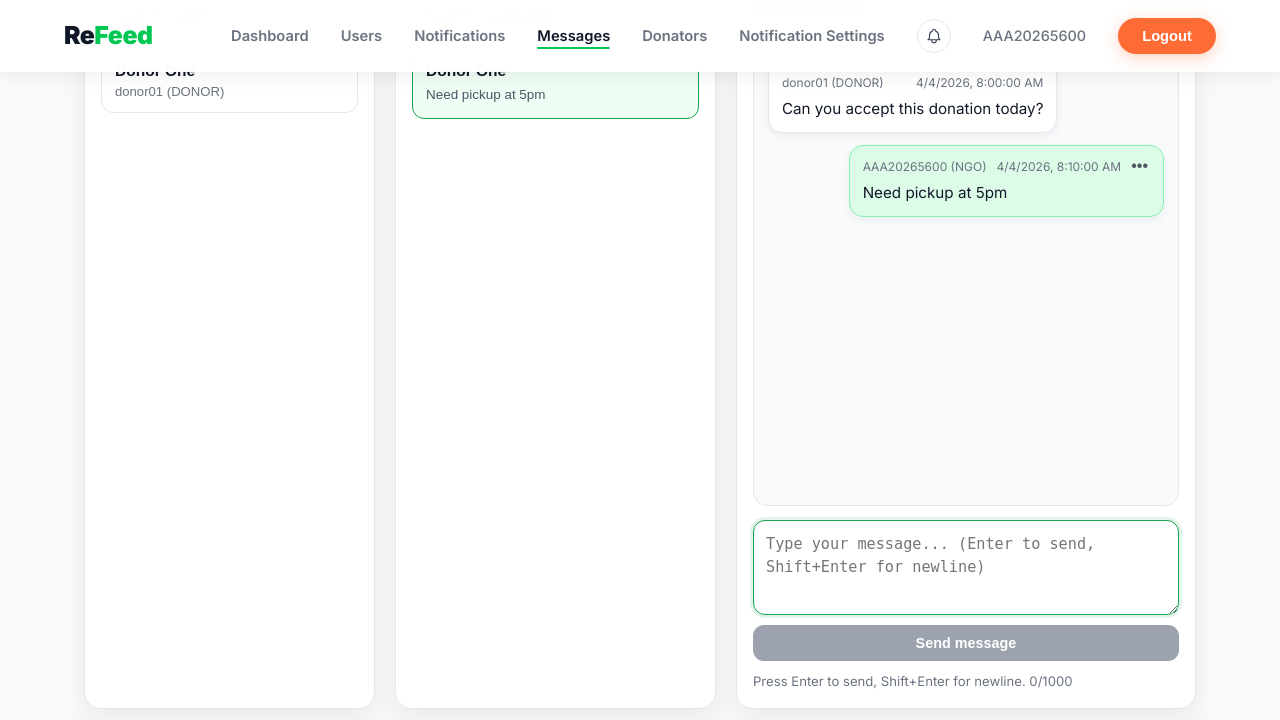
it: NGO Messages - E2E Tests › should load messages and send a new message
(page scrolled)
Expected: the text "Can you accept this donation today?" is shown, x1=782 y1=98 x2=1043 y2=121
Step 1. Type "Pickup confirmed for 5pm." into the text box with class "rf-composer-input" → (966, 567), box x1=753 y1=520 x2=1179 y2=614
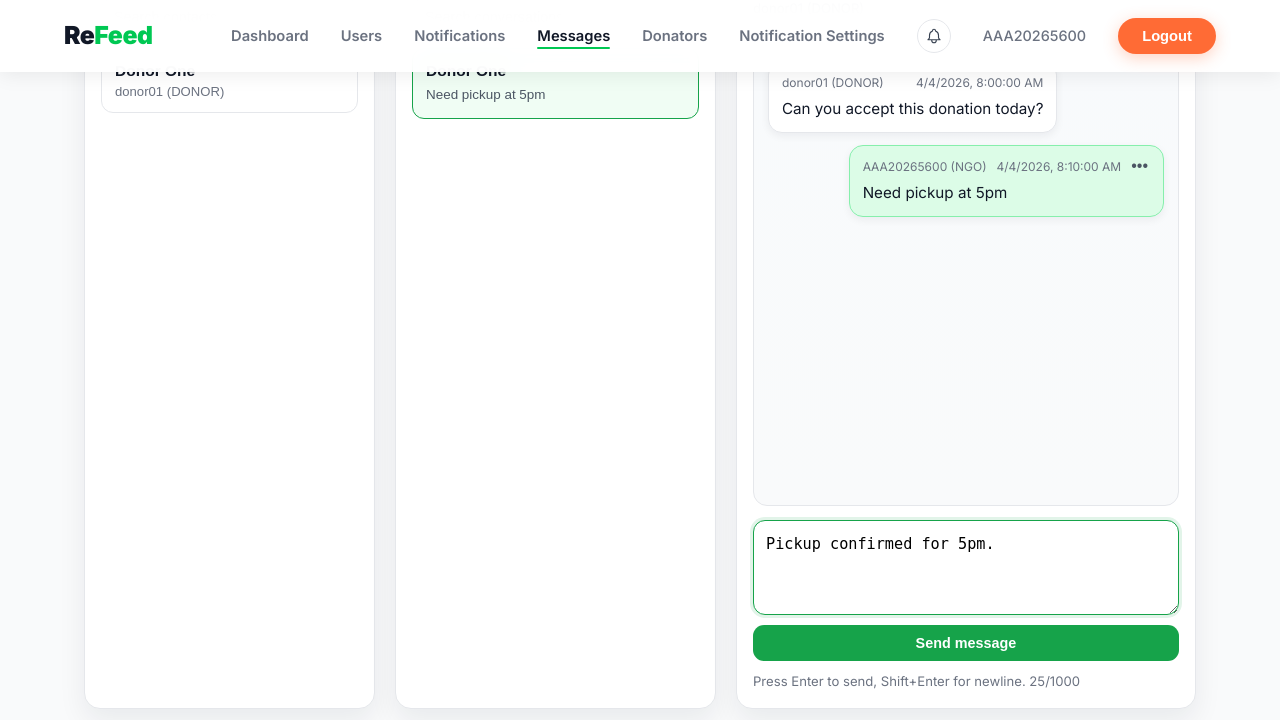
Step 2. Click the button "Send message" → click(966, 643), box x1=753 y1=625 x2=1179 y2=661
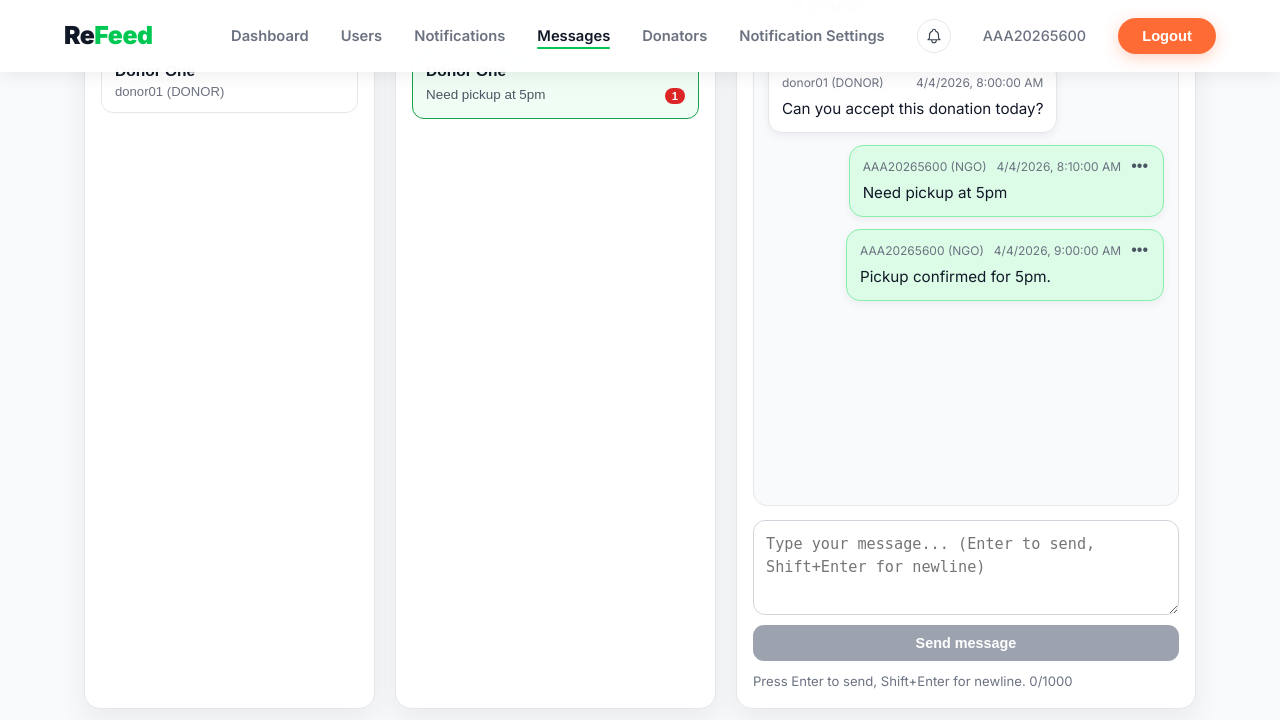
Now the text "Pickup confirmed for 5pm." is shown, box x1=860 y1=267 x2=1051 y2=286
